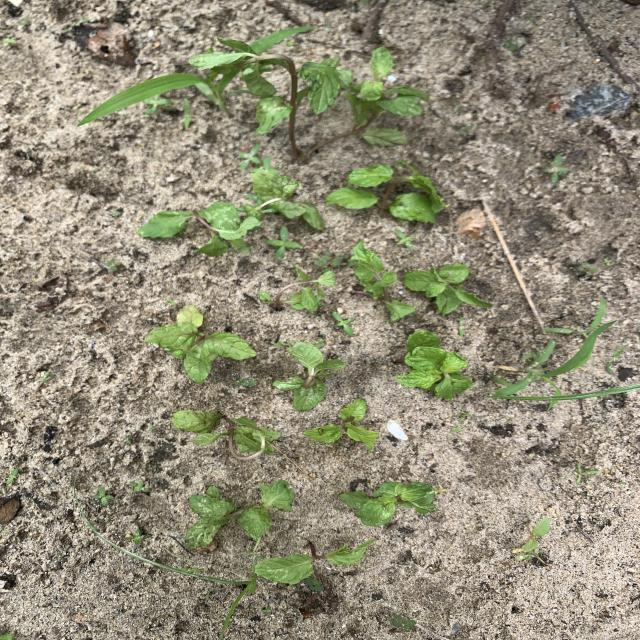crop: (189, 26, 313, 135), (306, 46, 427, 150), (145, 305, 255, 382), (327, 161, 446, 222), (185, 481, 293, 547), (138, 202, 248, 255), (255, 540, 372, 586), (349, 240, 414, 321), (396, 330, 471, 399), (250, 161, 323, 230), (273, 342, 343, 410), (340, 481, 443, 526), (172, 412, 279, 454), (404, 264, 491, 313), (304, 399, 378, 448), (259, 266, 335, 311)
weed: (79, 508, 242, 583), (491, 300, 616, 397), (80, 72, 234, 123), (514, 518, 550, 562), (238, 194, 266, 234), (268, 226, 299, 259), (542, 154, 570, 183), (606, 345, 627, 375), (239, 145, 262, 170), (144, 96, 171, 114), (576, 462, 598, 483), (334, 312, 354, 335), (391, 615, 415, 631), (94, 487, 114, 506), (315, 253, 342, 267), (451, 411, 469, 431), (126, 528, 147, 543), (545, 379, 562, 397), (578, 261, 597, 275), (396, 231, 411, 247), (130, 481, 149, 493), (183, 98, 190, 128), (104, 259, 121, 271), (234, 378, 255, 387), (545, 328, 571, 334), (7, 469, 17, 483), (3, 37, 16, 45), (166, 298, 175, 306), (263, 608, 270, 614)
